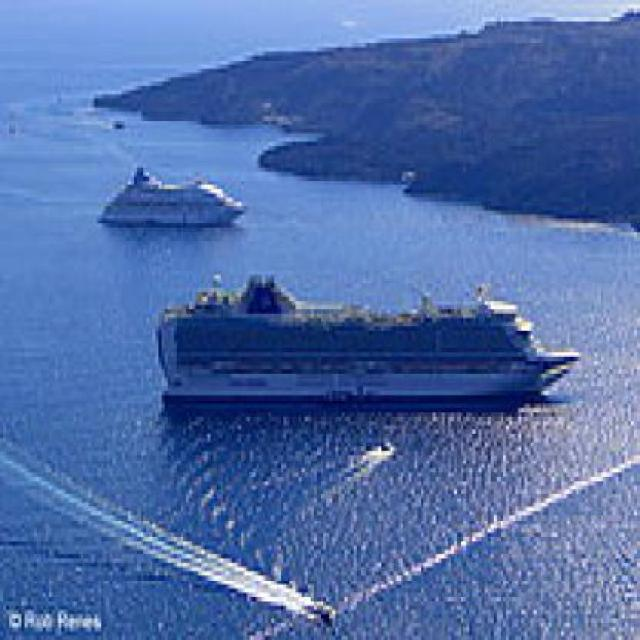cruise: (147, 259, 587, 436)
